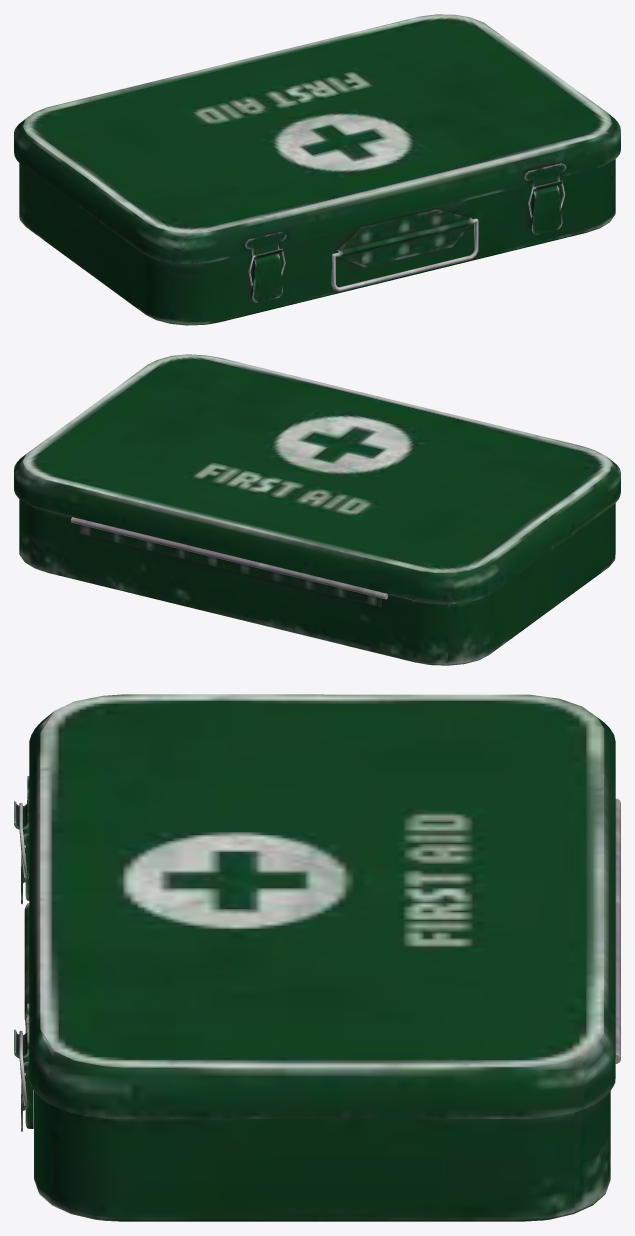
Rendered from medical_box.glb.
3 views of the same model, one above another, from view 1: azimuth 30°, elevation 25°; view 2: azimuth 150°, elevation 25°; view 3: azimuth 270°, elevation 25° (orthographic). The views are drawn at different scales.
Visible parts, largest first — view 1: medical_box; view 2: medical_box; view 3: medical_box.
Part boxes in pixels (x1,y1,x2,y2): medical_box: (14, 14, 620, 325); medical_box: (14, 354, 620, 665); medical_box: (14, 694, 620, 1221).
Bounding box in the file's own units: 0.5255 × 0.0975 × 0.3502.
Materials: 1 (1 with a texture image).
